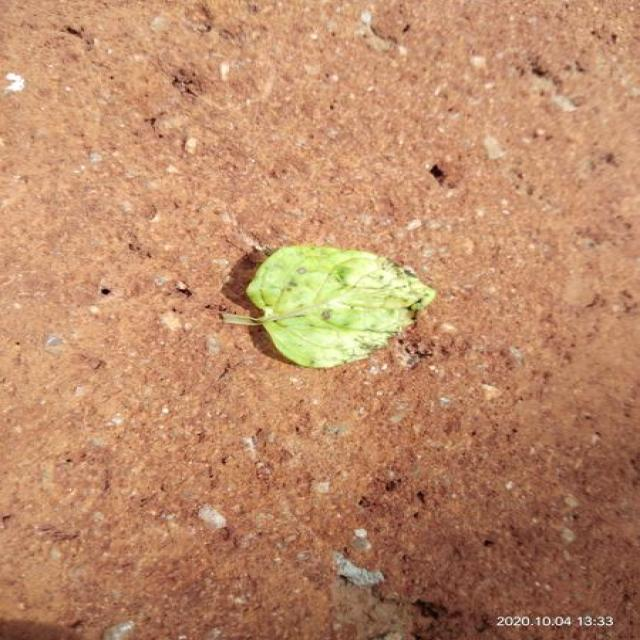mint: (222, 245, 435, 367)
